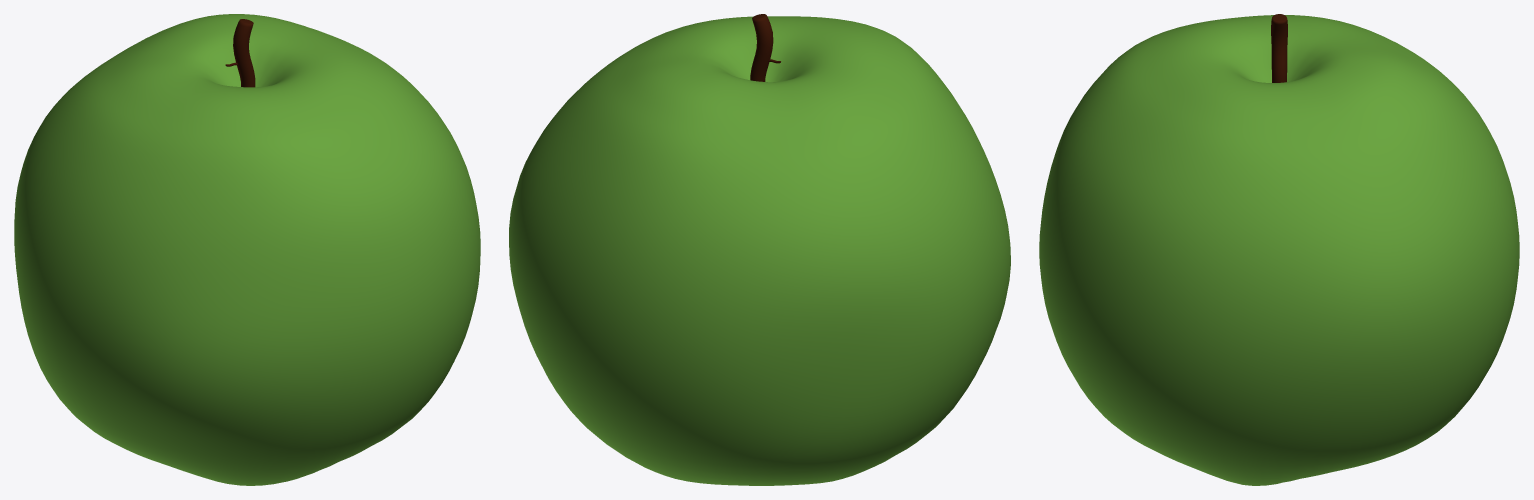
The model's file is green_apple.fbx.
3 views of the same model, side by side, from view 1: azimuth 30°, elevation 25°; view 2: azimuth 150°, elevation 25°; view 3: azimuth 270°, elevation 25° (orthographic). The views are drawn at different scales.
Parts seen in each view (by area): view 1: green_apple; view 2: green_apple; view 3: green_apple.
Part boxes in pixels (<box>): green_apple: <box>14,14,480,485</box>; green_apple: <box>509,14,1010,485</box>; green_apple: <box>1039,14,1519,485</box>.
Bounding box in the file's own units: 1.8 × 1.8 × 1.79.
